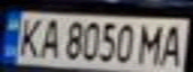0: (115, 20, 139, 64), (81, 18, 103, 62)
5: (100, 19, 121, 63)
8: (60, 17, 84, 61)
A: (157, 21, 190, 68), (36, 16, 63, 60)
K: (12, 15, 45, 58)
M: (136, 21, 166, 66)
